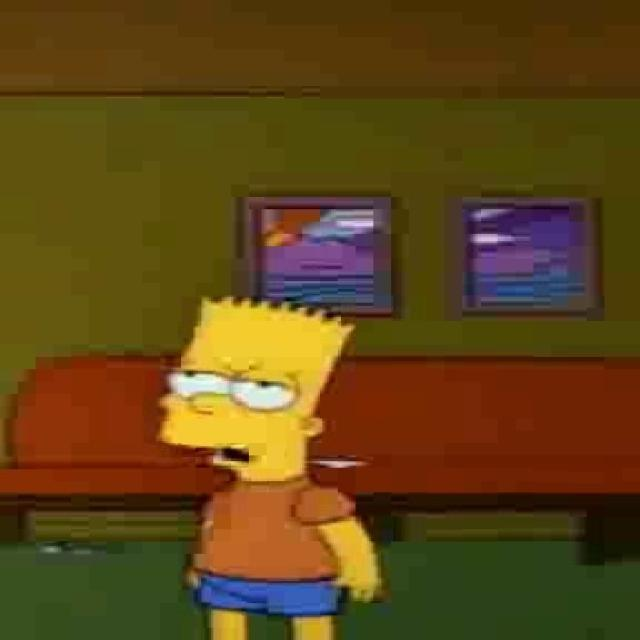Bart Simpson: (157, 289, 359, 486)
